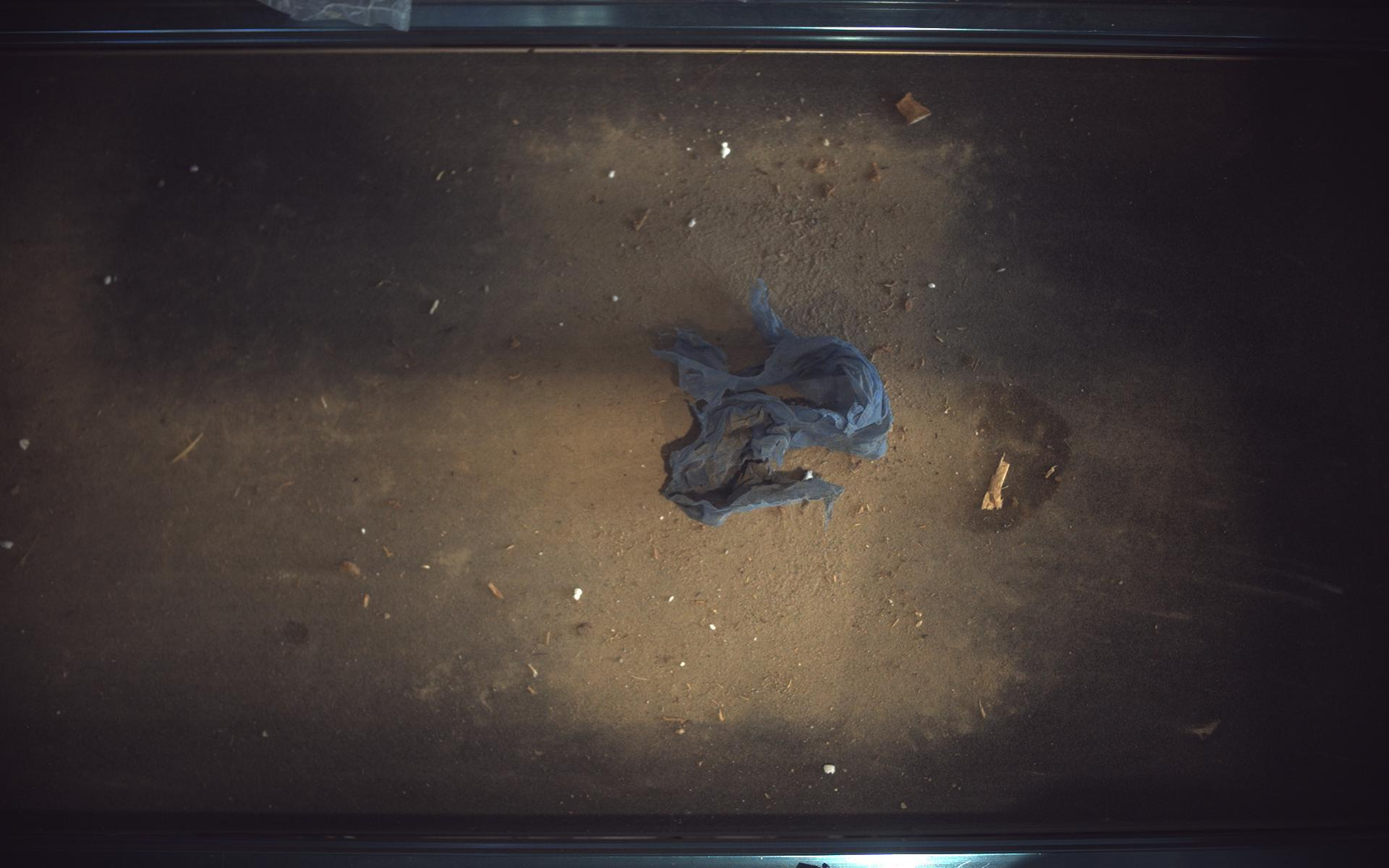general_w: (654, 279, 895, 526)
